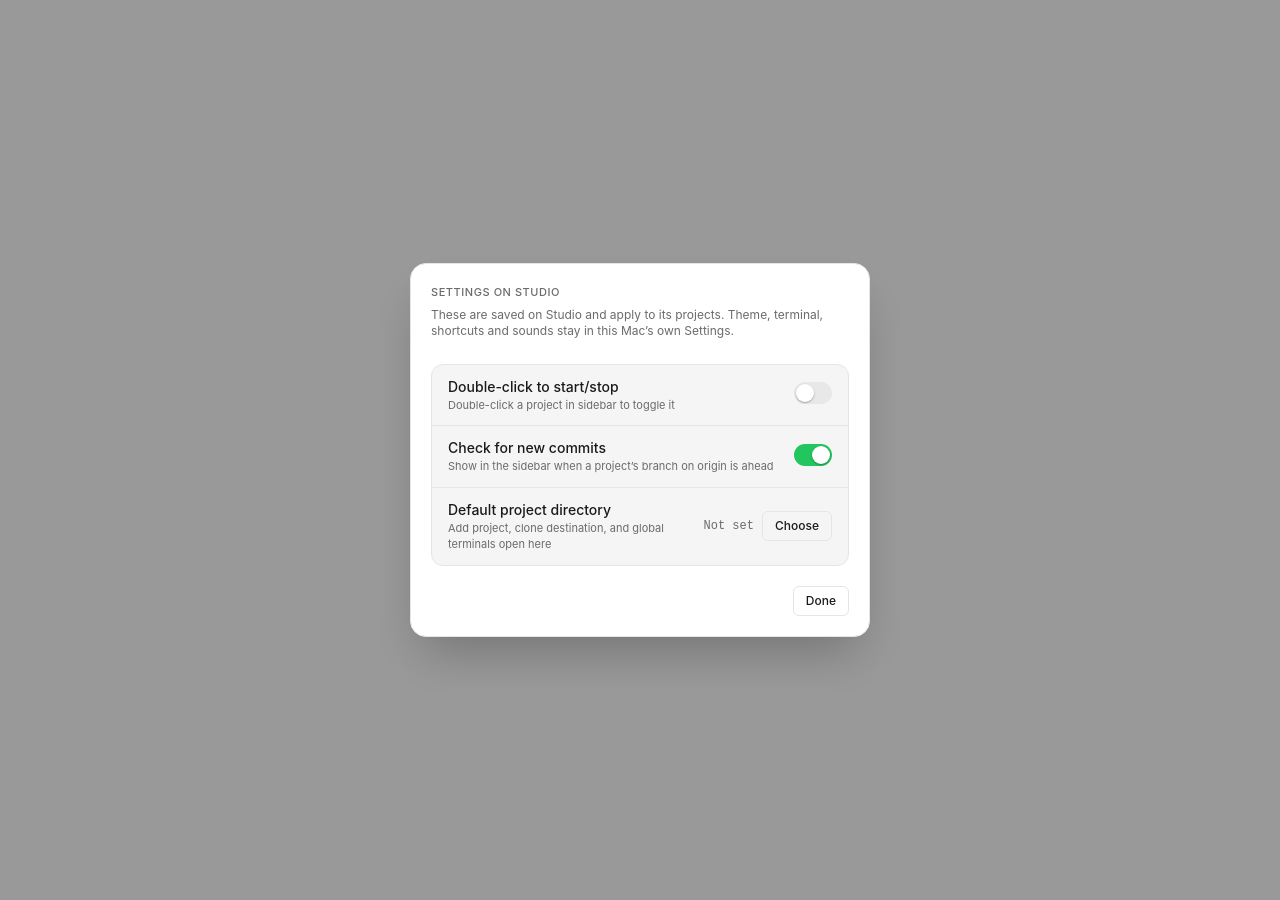
Test: PeerSettingsModal › puts a change back when the machine refuses it, and says why
This screenshot has width=1280, height=900.
Click the switch named "Check for new commits" at (813, 454), box 794,444 -> 832,466
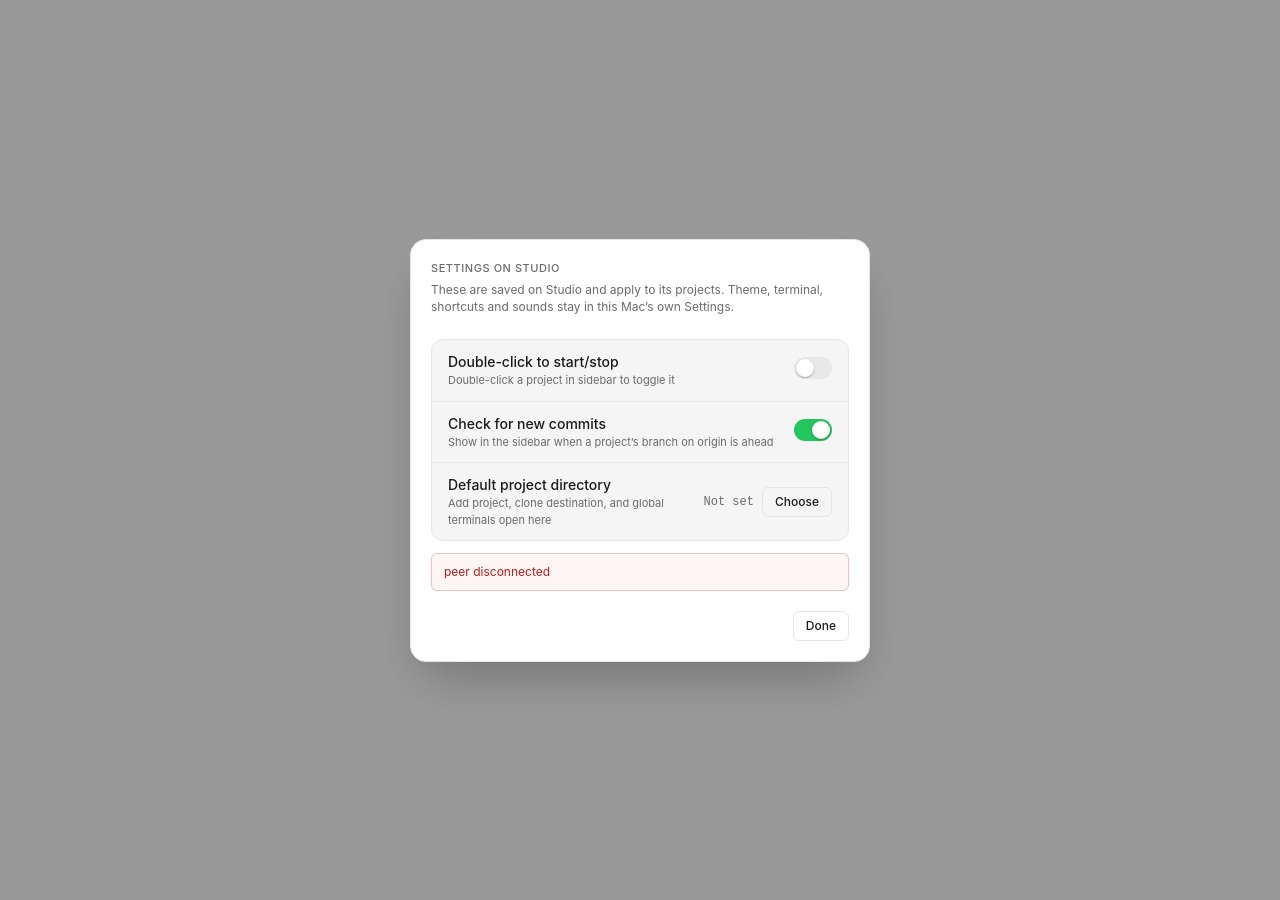
Expected: the text "peer disconnected" is shown, 431,553 -> 849,590
